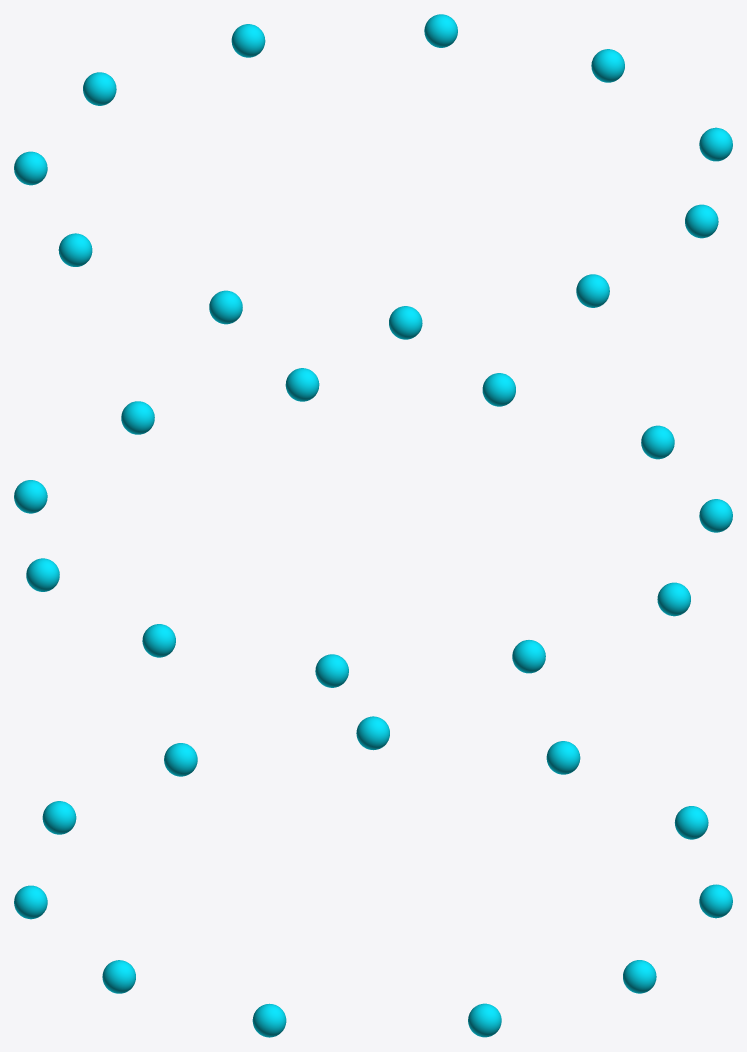
3 renders of one model, top to bottom at view 1: azimuth 30°, elevation 25°; view 2: azimuth 150°, elevation 25°; view 3: azimuth 270°, elevation 25°, orthographic.
Visible parts, largest first — view 1: Sphere050; view 2: Sphere050; view 3: Sphere050.
Boxes of the visible parts, box(x1,y1,x2,y2) form: Sphere050: box(14, 14, 732, 339); Sphere050: box(14, 368, 732, 687); Sphere050: box(14, 716, 732, 1037).
Size of the model in its own units: 174 by 8.22 by 175.
